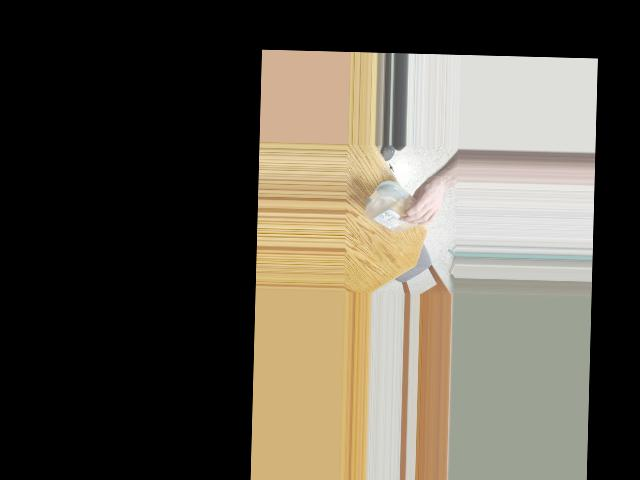cheese: (362, 181, 429, 235)
